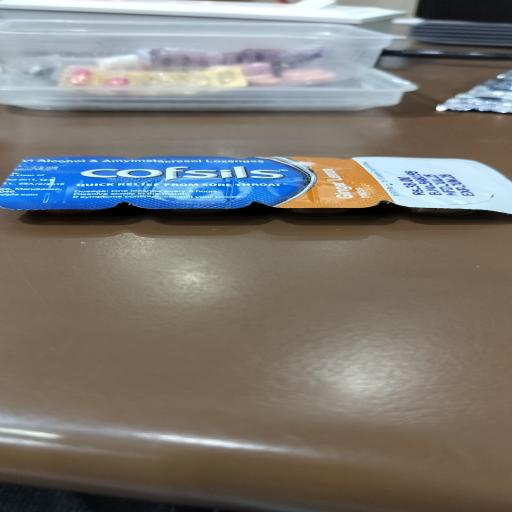cofsils: (74, 164, 294, 189)
medicine: (0, 156, 511, 210)
